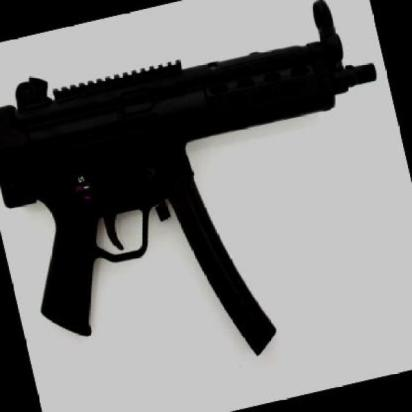Gun: (0, 0, 409, 401)
